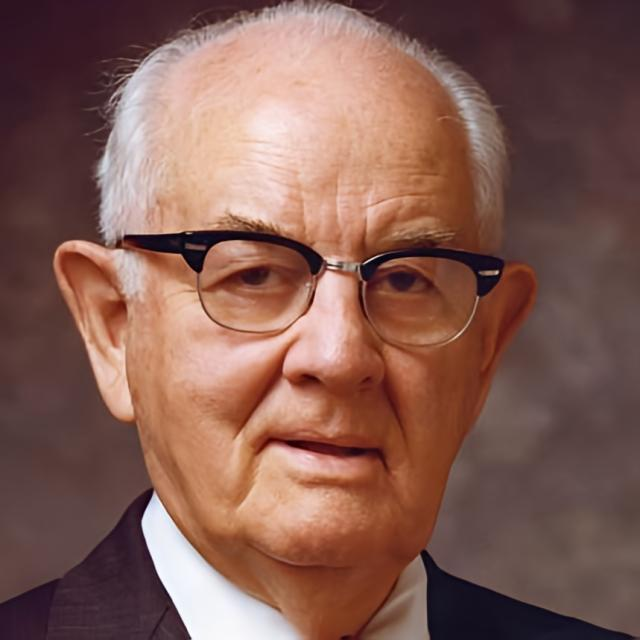anger: (128, 95, 481, 559)
